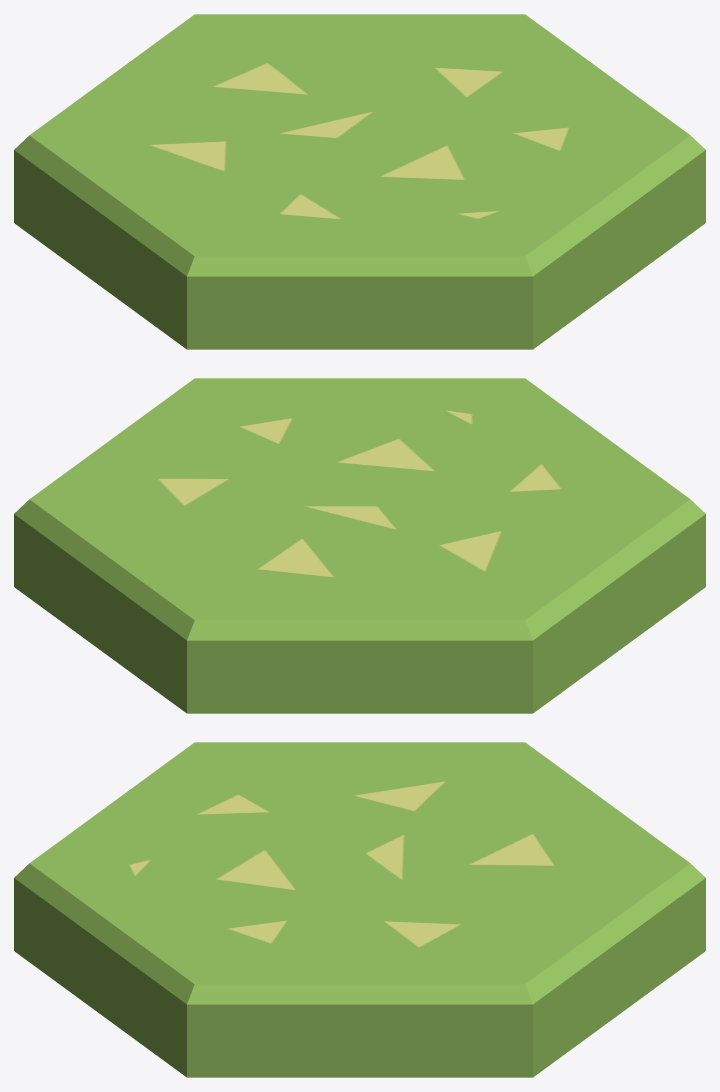
File: test_tile.glb
3 renders of one model, top to bottom at view 1: azimuth 30°, elevation 25°; view 2: azimuth 150°, elevation 25°; view 3: azimuth 270°, elevation 25°, orthographic.
Visible parts, largest first — view 1: tile; view 2: tile; view 3: tile.
Boxes of the visible parts, x1=… form: tile: x1=14, y1=14, x2=705, y2=349; tile: x1=14, y1=378, x2=705, y2=713; tile: x1=14, y1=742, x2=705, y2=1077.
Size of the model in its own units: 1.73 by 0.2796 by 2.
1 material, 1 textured.
